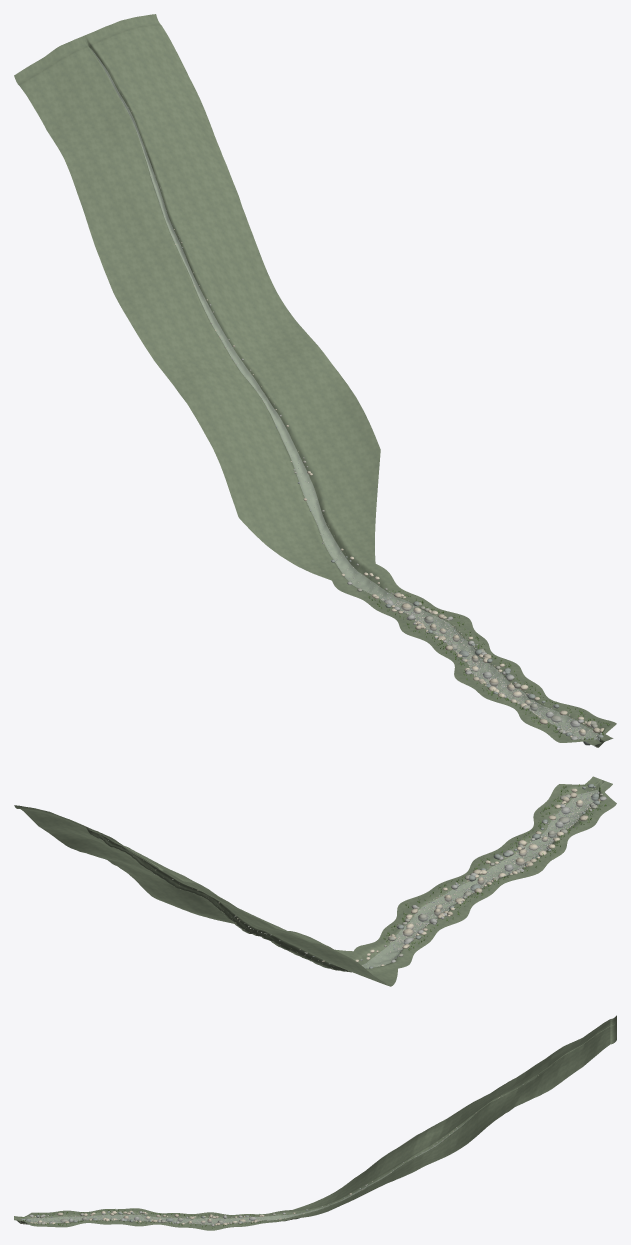
File: temple-stream.glb
The picture shows the model from 3 angles, top to bottom: view 1: azimuth 30°, elevation 25°; view 2: azimuth 150°, elevation 25°; view 3: azimuth 270°, elevation 25°; orthographic projection. The views are drawn at different scales.
Visible parts, largest first — view 1: Creek | sculpted sand and gravel channel, Creek | river stones and submerged pebbles, Creek | headwater surface, Creek | water surface; view 2: Creek | sculpted sand and gravel channel, Creek | river stones and submerged pebbles, Creek | water surface, Creek | arching bank sedges, Creek | headwater surface; view 3: Creek | sculpted sand and gravel channel, Creek | river stones and submerged pebbles, Creek | water surface.
Part boxes in pixels (x1,y1,x2,y2): Creek | sculpted sand and gravel channel: [14, 14, 616, 747]; Creek | river stones and submerged pebbles: [122, 95, 604, 747]; Creek | headwater surface: [93, 52, 386, 594]; Creek | water surface: [377, 593, 598, 740]; Creek | sculpted sand and gravel channel: [14, 776, 616, 986]; Creek | river stones and submerged pebbles: [107, 784, 606, 971]; Creek | water surface: [390, 790, 598, 947]; Creek | arching bank sedges: [383, 783, 606, 950]; Creek | headwater surface: [362, 945, 402, 968]; Creek | sculpted sand and gravel channel: [14, 1015, 616, 1230]; Creek | river stones and submerged pebbles: [20, 1075, 538, 1226]; Creek | water surface: [28, 1215, 263, 1224].
Size of the model in its own units: 16.4 by 35.17 by 94.
Materials: 4 (1 with a texture image).
